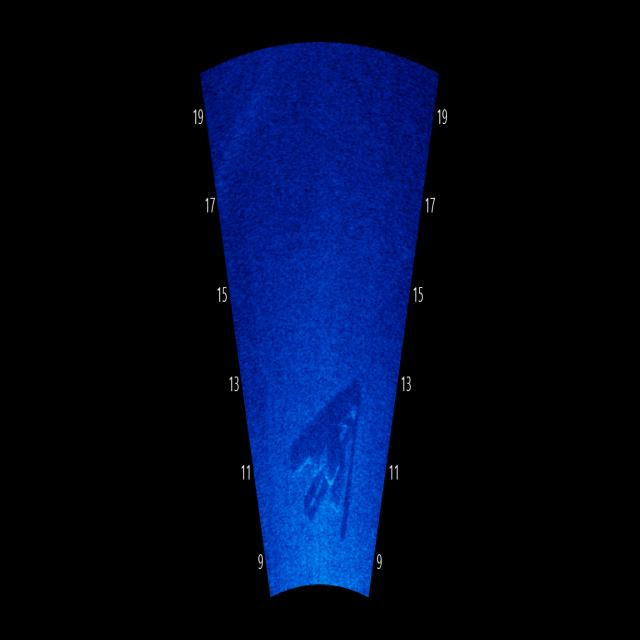triangle: (295, 325, 367, 540)
